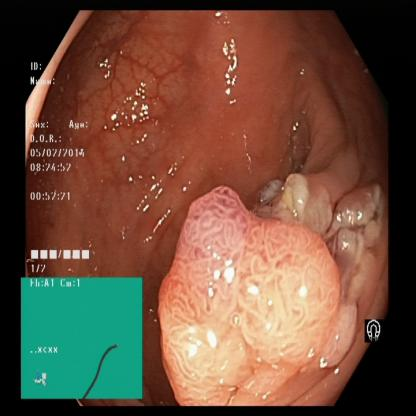Polyps: (162, 197, 358, 395)
